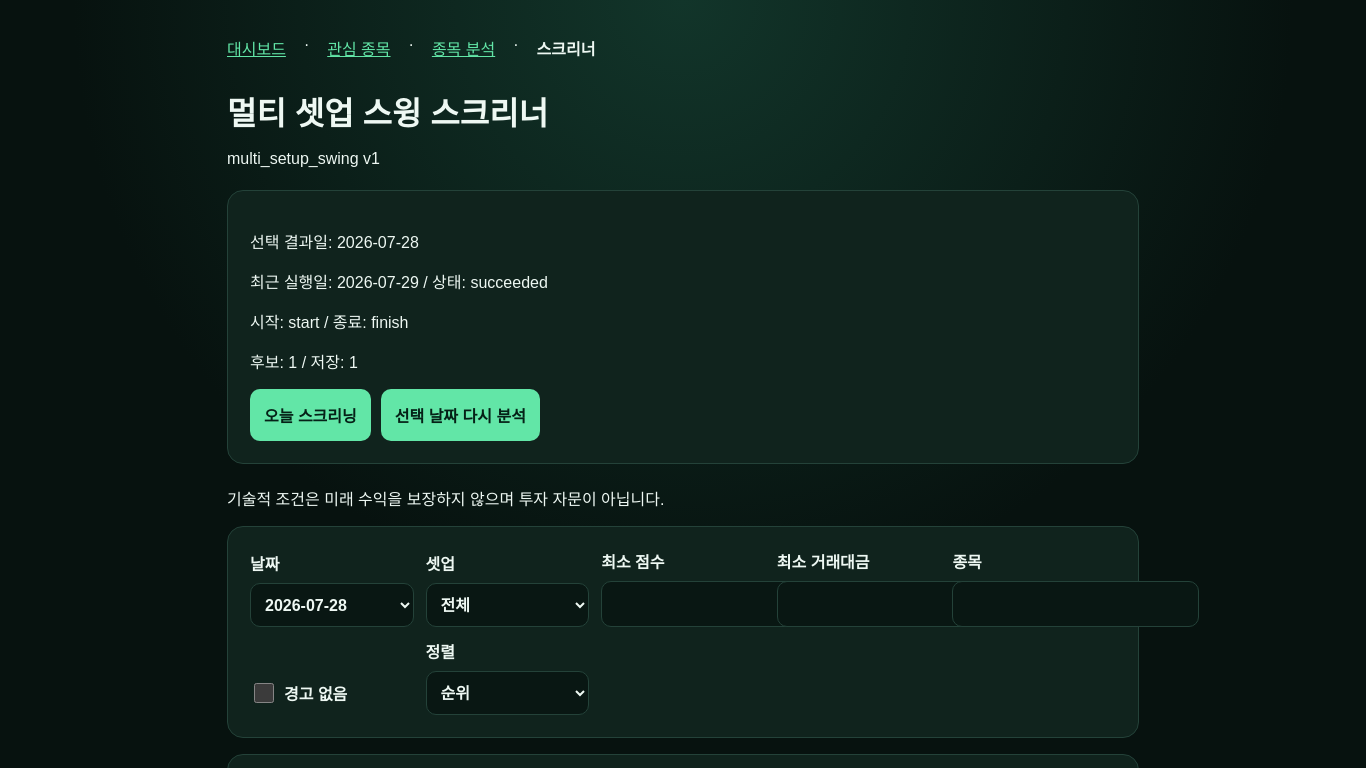
it: ScreenerDashboard › reloads same-date candidates after successful reanalysis
Click the button "선택 날짜 다시 분석".
click(460, 415)  # box [381, 389, 540, 441]
(page scrolled)
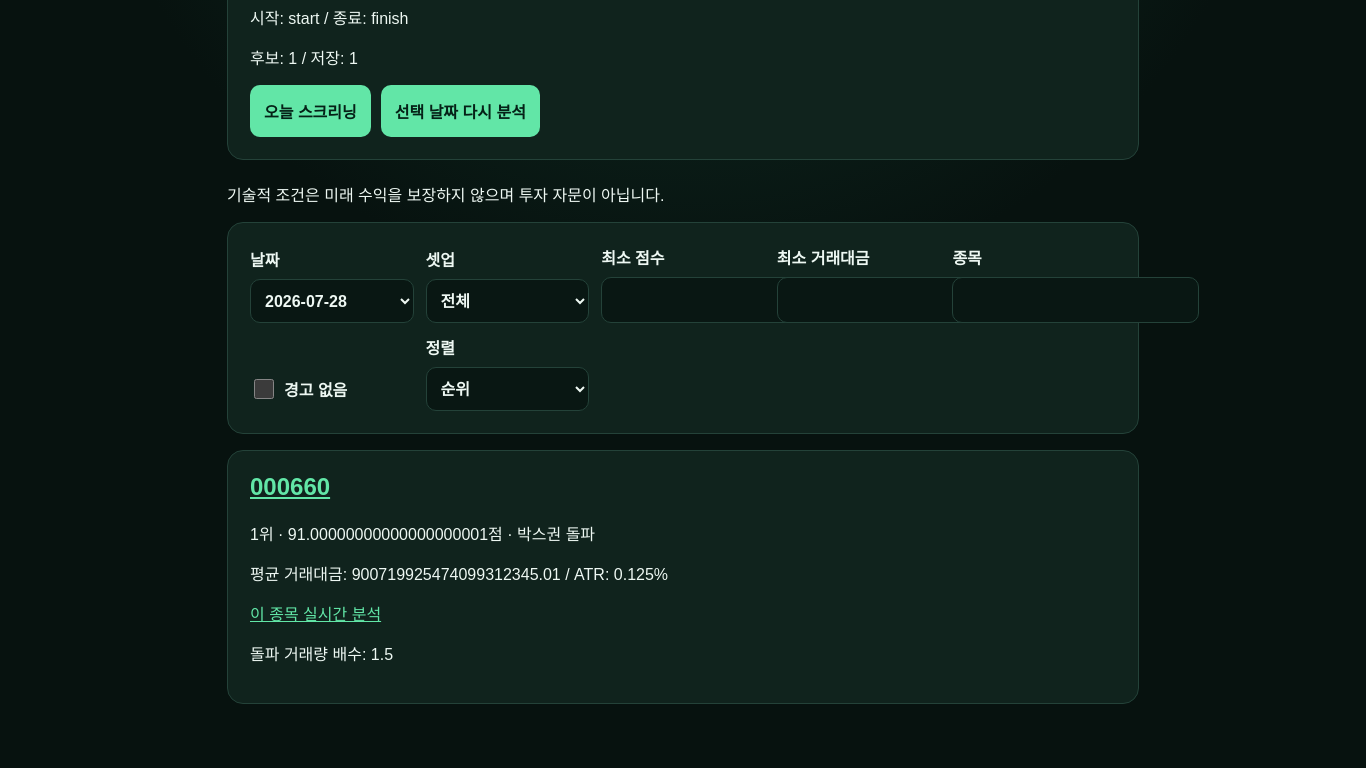
Now the link "000660" is shown, box [250, 473, 330, 500]
